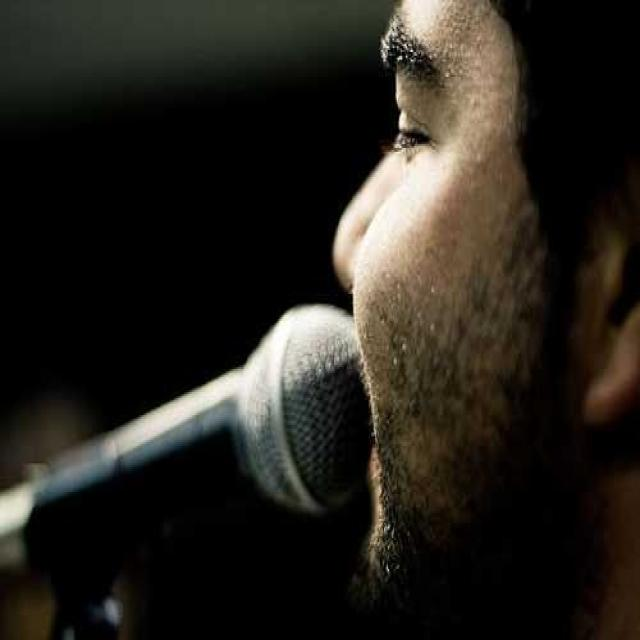microphone: (27, 277, 377, 577)
